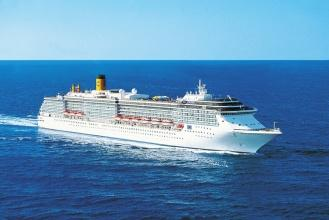youlun: (25, 70, 284, 156)
